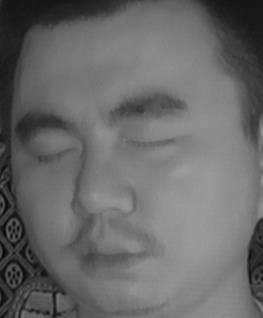blink: (125, 121, 178, 161), (30, 135, 78, 172)
mouth: (64, 228, 159, 281)
